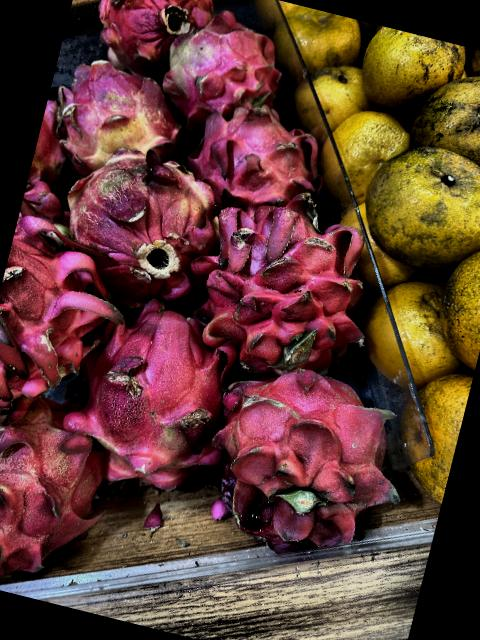buah-naga-belum-matang: (34, 130, 236, 309), (0, 394, 121, 587), (39, 49, 193, 179), (162, 11, 284, 111)
buah-naga-matang: (189, 354, 408, 552), (66, 283, 248, 492), (186, 194, 386, 384), (0, 209, 142, 424), (184, 96, 336, 220), (89, 0, 218, 79)
